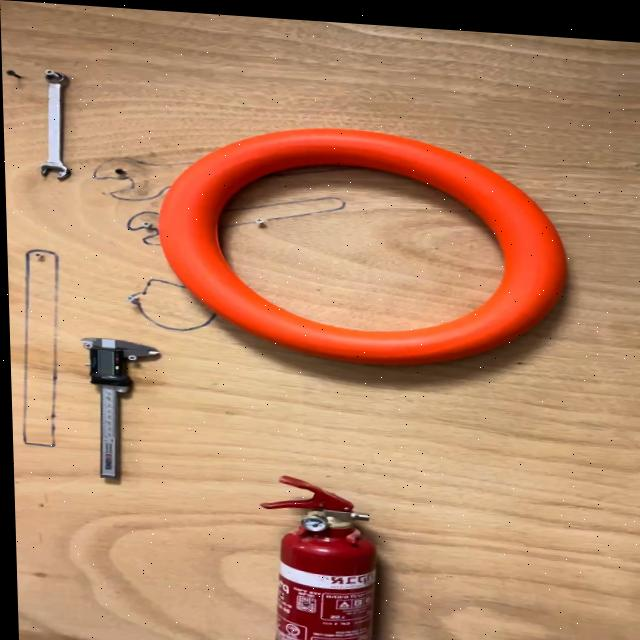note: (151, 112, 571, 373)
